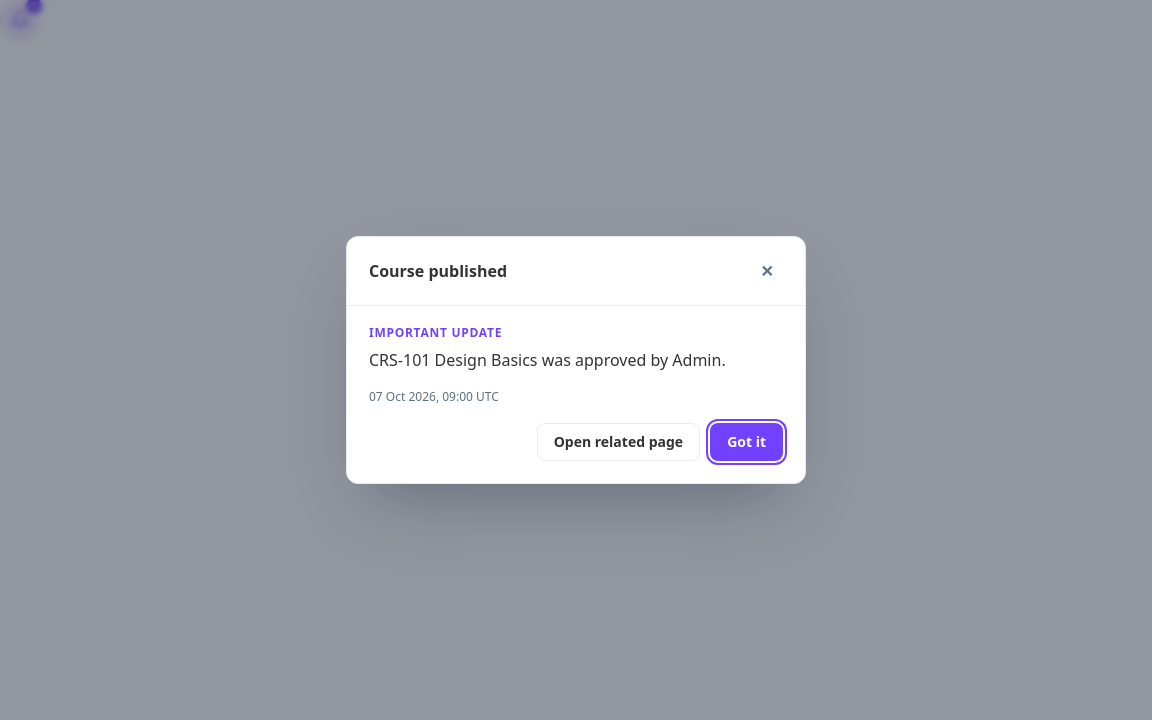
Scenario: pops up an unread approval decision and marks it read when acknowledged
Expected: the text "CRS-101 Design Basics was approved by Admin." is shown, x1=369 y1=348 x2=783 y2=373
Click the button "Got it" at (747, 442), box x1=710 y1=423 x2=783 y2=461
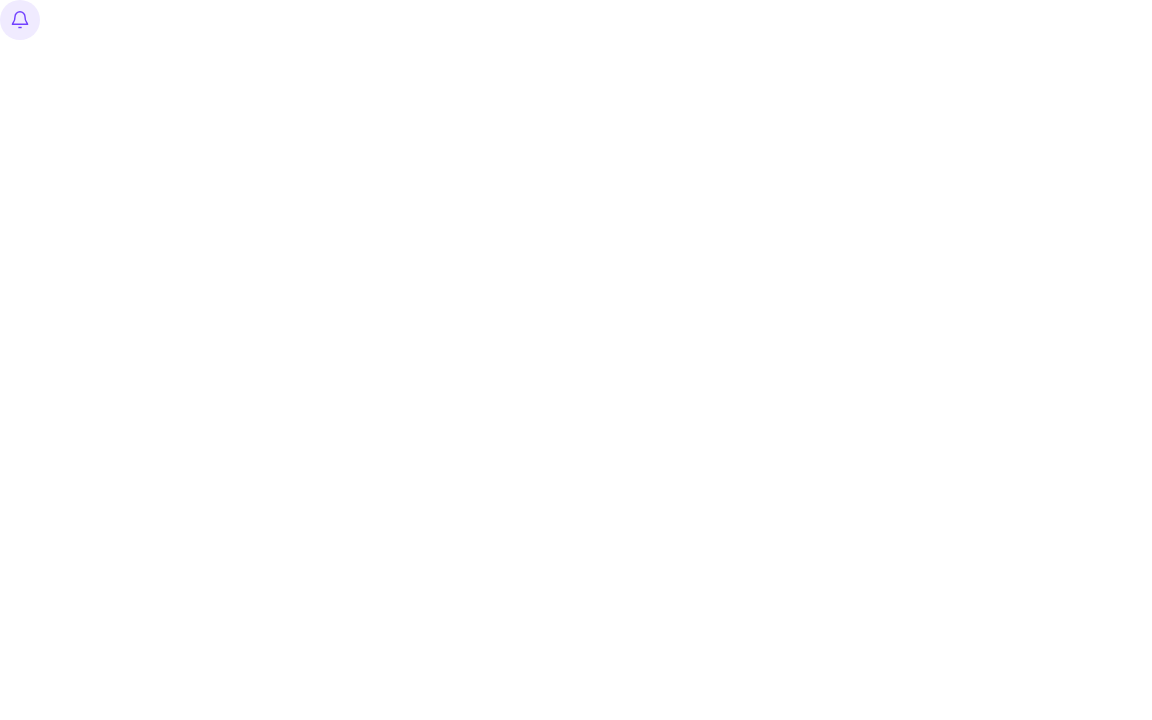
Now the dialog is gone
Now the button named "Notifications, 0 unread" is shown, box x1=0 y1=0 x2=40 y2=40
